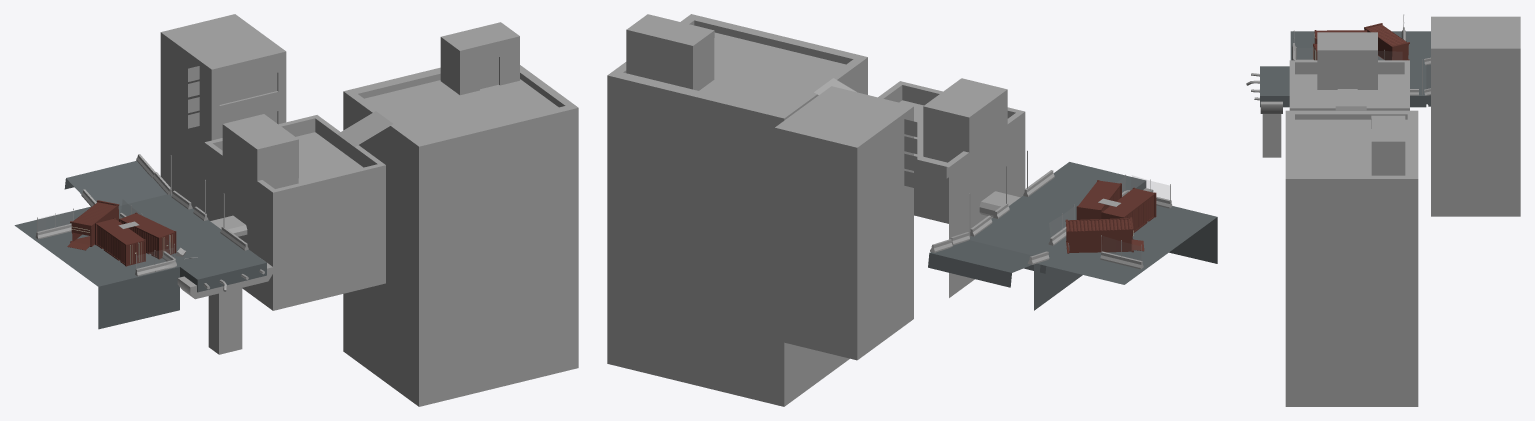
File: bloco defend tut 1.fbx
3 views of the same model, side by side, from view 1: azimuth 30°, elevation 25°; view 2: azimuth 150°, elevation 25°; view 3: azimuth 270°, elevation 25° (orthographic). The views are drawn at different scales.
Parts seen in each view (by area): view 1: pCube77, pCube74, pCube86, polySurface34, pCube85, pCube148, pCube149, pCube82, pCube95, teto_container7 (×2), pPlane4, pCube94 (+3 smaller); view 2: pCube77, pCube86, pCube74, polySurface34, pCube85, pCube149, pCube148, pCube82, teto_container7 (×2), pPlane17, polySurface17, parede_frente5 (+2 smaller); view 3: pCube77, pCube86, pCube74, pCube148, pCube149, pCube85, polySurface34, pCube95, parede_frente5, teto_container6, pCube94.
Boxes of the visible parts, x1=… form: pCube77: x1=343, y1=65, x2=578, y2=406; pCube74: x1=204, y1=115, x2=385, y2=310; pCube86: x1=160, y1=14, x2=286, y2=211; polySurface34: x1=14, y1=206, x2=179, y2=329; pCube85: x1=118, y1=194, x2=266, y2=292; pCube148: x1=222, y1=114, x2=298, y2=194; pCube149: x1=440, y1=22, x2=519, y2=95; pCube82: x1=64, y1=161, x2=166, y2=205; pCube95: x1=208, y1=288, x2=242, y2=354; teto_container7 (×2): x1=96, y1=213, x2=174, y2=245; pPlane4: x1=337, y1=111, x2=393, y2=146; pCube94: x1=177, y1=263, x2=272, y2=299; pCube77: x1=607, y1=14, x2=867, y2=406; pCube86: x1=774, y1=86, x2=913, y2=360; pCube74: x1=878, y1=81, x2=1025, y2=297; polySurface34: x1=1034, y1=205, x2=1217, y2=310; pCube85: x1=970, y1=162, x2=1146, y2=267; pCube149: x1=626, y1=14, x2=714, y2=90; pCube148: x1=923, y1=78, x2=1007, y2=165; pCube82: x1=928, y1=240, x2=1046, y2=287; teto_container7 (×2): x1=1078, y1=180, x2=1154, y2=218; pPlane17: x1=1069, y1=229, x2=1131, y2=252; polySurface17: x1=1100, y1=236, x2=1143, y2=269; parede_frente5: x1=1068, y1=219, x2=1131, y2=231; pCube77: x1=1285, y1=110, x2=1418, y2=406; pCube86: x1=1431, y1=16, x2=1520, y2=216; pCube74: x1=1289, y1=60, x2=1409, y2=110; pCube148: x1=1317, y1=32, x2=1377, y2=89; pCube149: x1=1371, y1=115, x2=1405, y2=175; pCube85: x1=1260, y1=66, x2=1426, y2=107; polySurface34: x1=1290, y1=31, x2=1430, y2=104; pCube95: x1=1262, y1=114, x2=1281, y2=157; parede_frente5: x1=1367, y1=24, x2=1406, y2=45; teto_container6: x1=1364, y1=28, x2=1393, y2=60; pCube94: x1=1260, y1=101, x2=1282, y2=113.
Size of the model in its own units: 9946 by 6107 by 5650.
